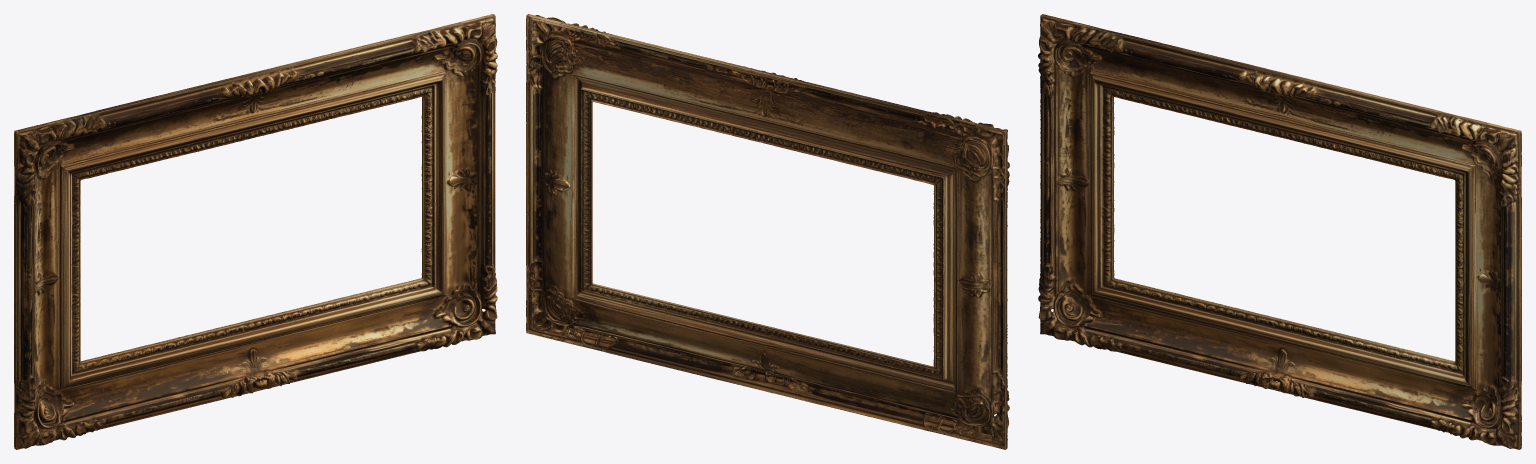
Rendered from frame.glb.
3 views of the same model, side by side, from view 1: azimuth 30°, elevation 25°; view 2: azimuth 150°, elevation 25°; view 3: azimuth 330°, elevation 25° (orthographic).
Bounding box in the file's own units: 1.9 × 1.2 × 0.0889.
Materials: 1 (1 with a texture image).
